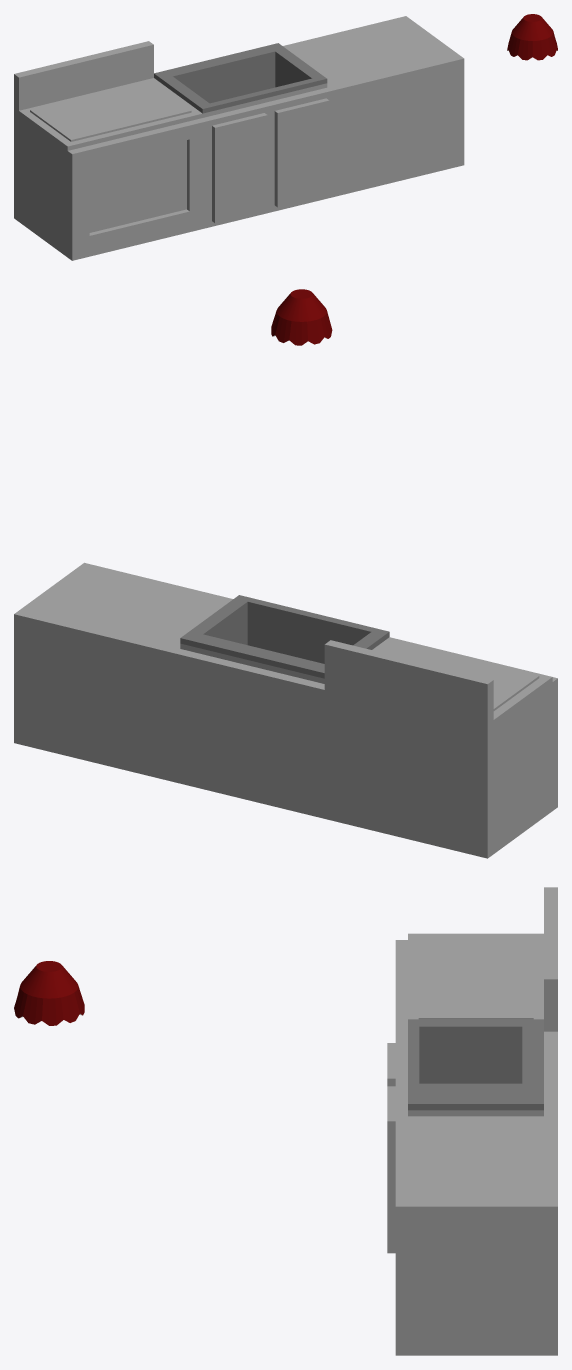
Rendered from Blockout Assignment.fbx.
The picture shows the model from 3 angles, top to bottom: view 1: azimuth 30°, elevation 25°; view 2: azimuth 150°, elevation 25°; view 3: azimuth 270°, elevation 25°; orthographic projection. The views are drawn at different scales.
Visible parts, largest first — view 1: Lower_Cabinets, pCylinder1; view 2: Lower_Cabinets, pCylinder1; view 3: Lower_Cabinets, pCylinder1.
Part boxes in pixels (left/top/right/bottom): Lower_Cabinets: left=14, top=16, right=464, bottom=260; pCylinder1: left=507, top=14, right=557, bottom=60; Lower_Cabinets: left=14, top=562, right=557, bottom=858; pCylinder1: left=271, top=289, right=332, bottom=345; Lower_Cabinets: left=387, top=887, right=557, bottom=1355; pCylinder1: left=14, top=961, right=84, bottom=1025.
Bounding box in the file's own units: 23.06 × 14.15 × 19.86.
